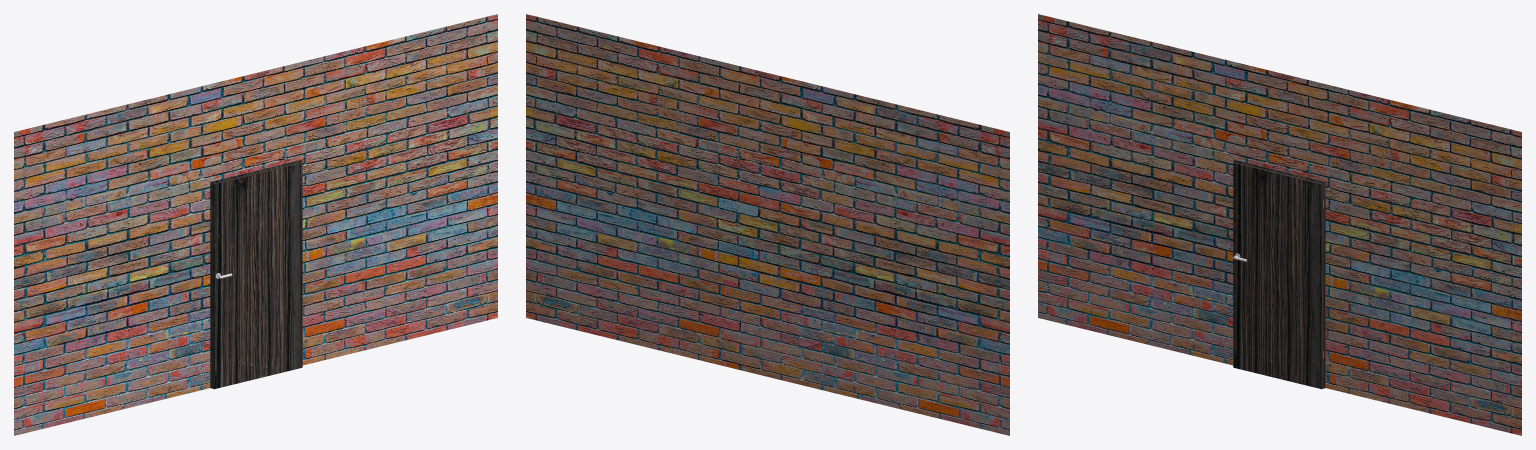
Rendered from back_wall.fbx.
3 renders of one model, left to right at view 1: azimuth 30°, elevation 25°; view 2: azimuth 150°, elevation 25°; view 3: azimuth 330°, elevation 25°, orthographic.
Visible parts, largest first — view 1: wall, door, doorframe; view 2: wall; view 3: wall, door, doorframe.
Part boxes in pixels (<box>): wall: <box>14,14,497,435</box>; door: <box>212,162,302,389</box>; doorframe: <box>210,159,302,388</box>; wall: <box>526,14,1009,435</box>; wall: <box>1038,14,1521,435</box>; door: <box>1233,162,1323,389</box>; doorframe: <box>1233,159,1325,388</box>.
Size of the model in its own units: 500 by 300 by 9.6.
